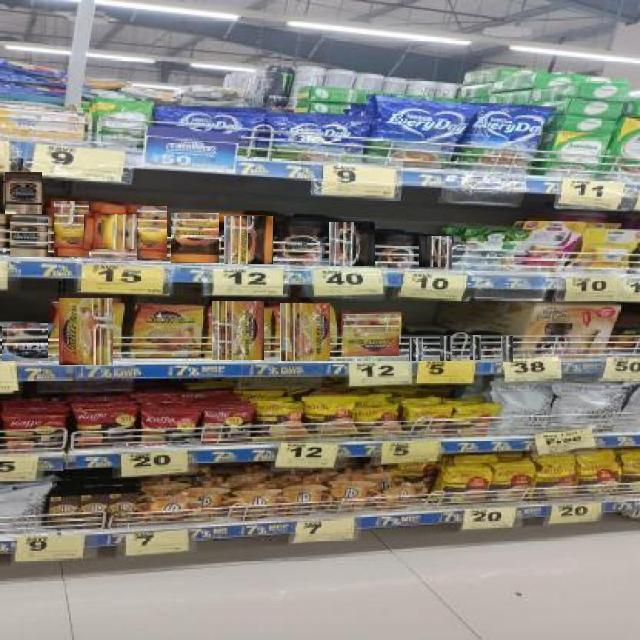Coffee: (59, 297, 113, 365), (136, 304, 200, 358), (212, 302, 264, 360), (280, 304, 330, 361), (342, 313, 399, 356), (171, 212, 219, 263), (223, 216, 273, 264), (328, 222, 375, 266), (279, 218, 323, 265), (54, 200, 89, 257), (84, 214, 140, 249), (1, 322, 48, 361), (136, 205, 167, 260), (4, 171, 42, 214), (9, 216, 48, 257), (381, 234, 414, 268), (419, 236, 452, 267), (500, 336, 513, 362), (409, 337, 423, 361), (439, 336, 452, 361), (469, 336, 481, 360)
